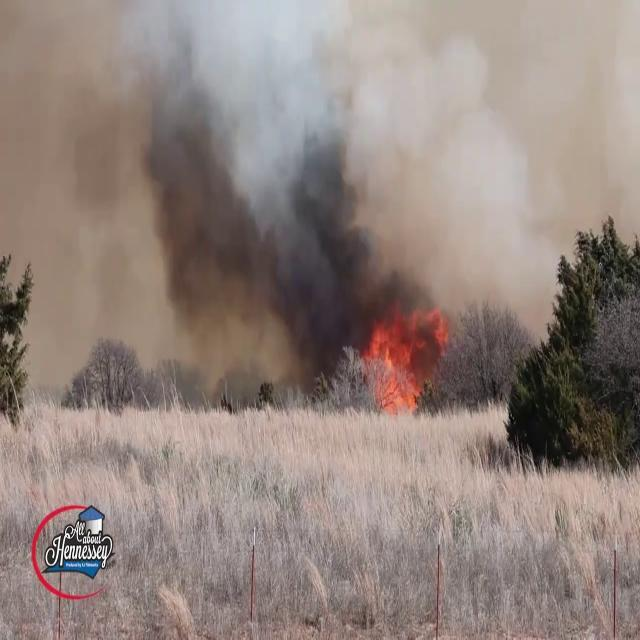Fire: (358, 298, 448, 410)
Smoke: (266, 1, 570, 367), (0, 1, 257, 387)
